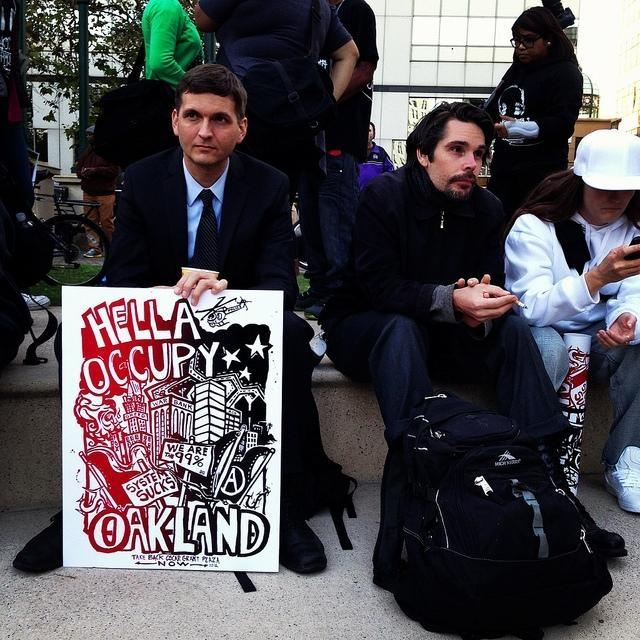bicycle: (32, 180, 108, 286)
